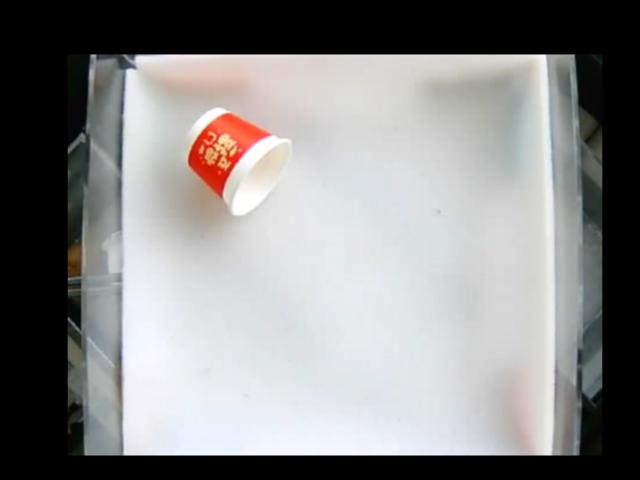Cup: (177, 107, 294, 216)
